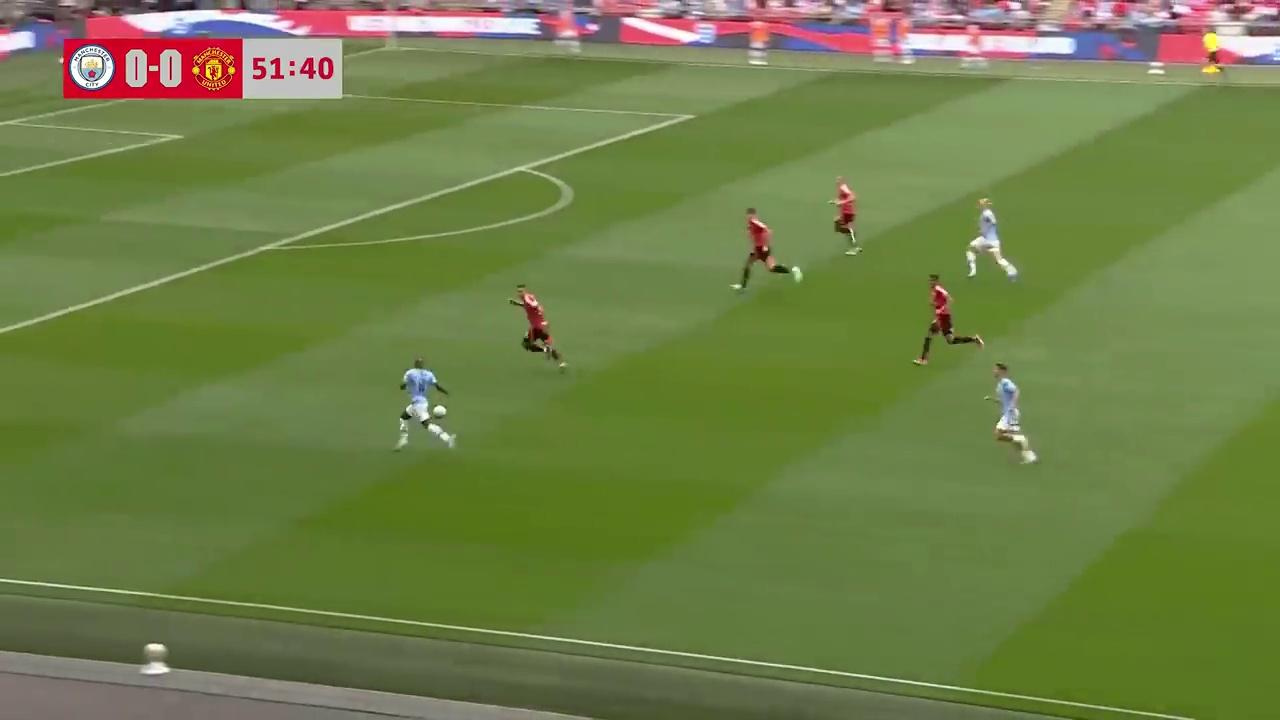ball: (433, 403, 448, 420)
player: (393, 356, 456, 450), (914, 274, 978, 365), (985, 362, 1038, 464), (731, 207, 793, 292), (507, 284, 567, 370), (966, 198, 1018, 282), (829, 176, 861, 256)
